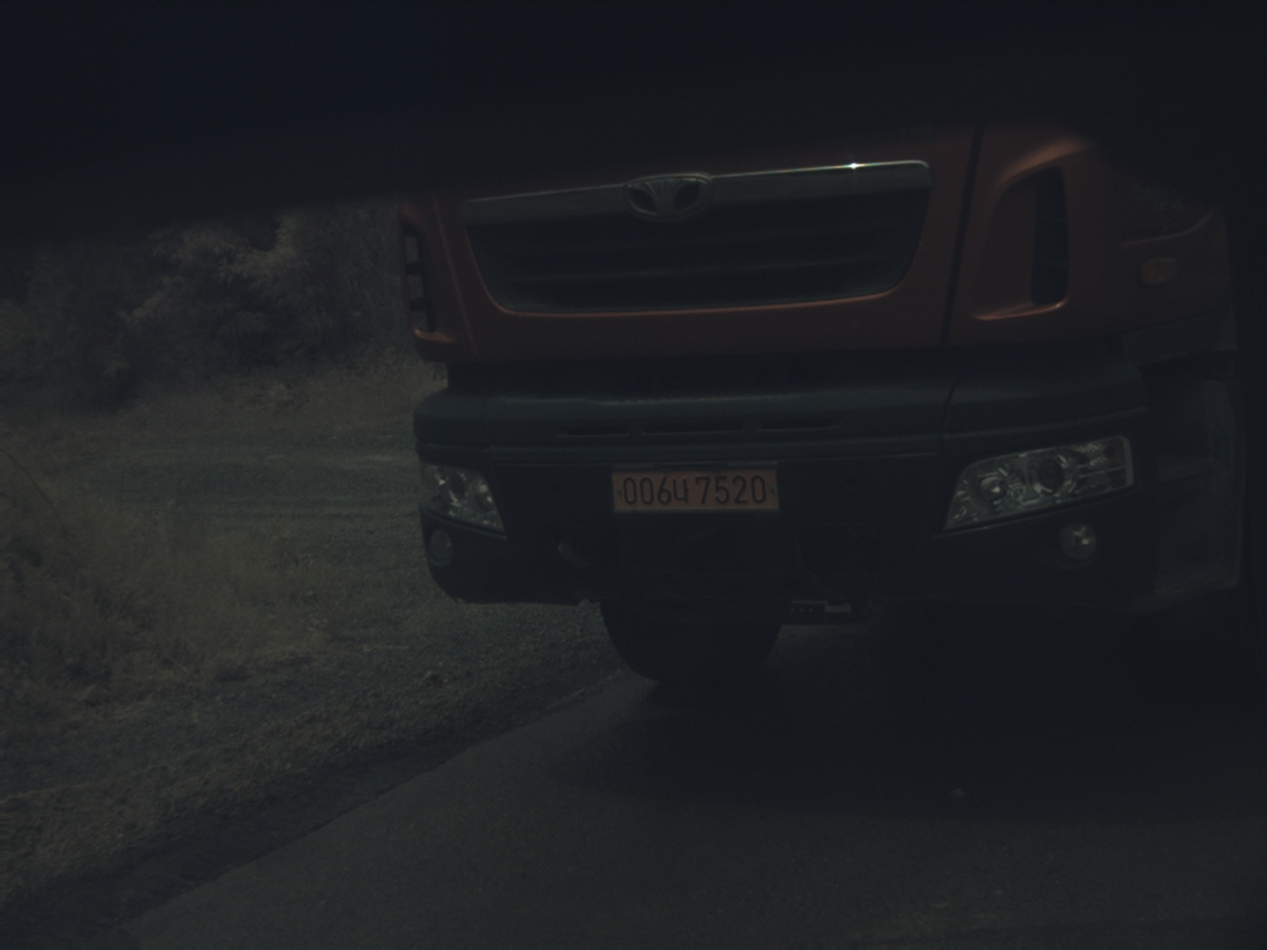license_plate: (614, 468, 777, 512)
truck: (401, 122, 1245, 679)
